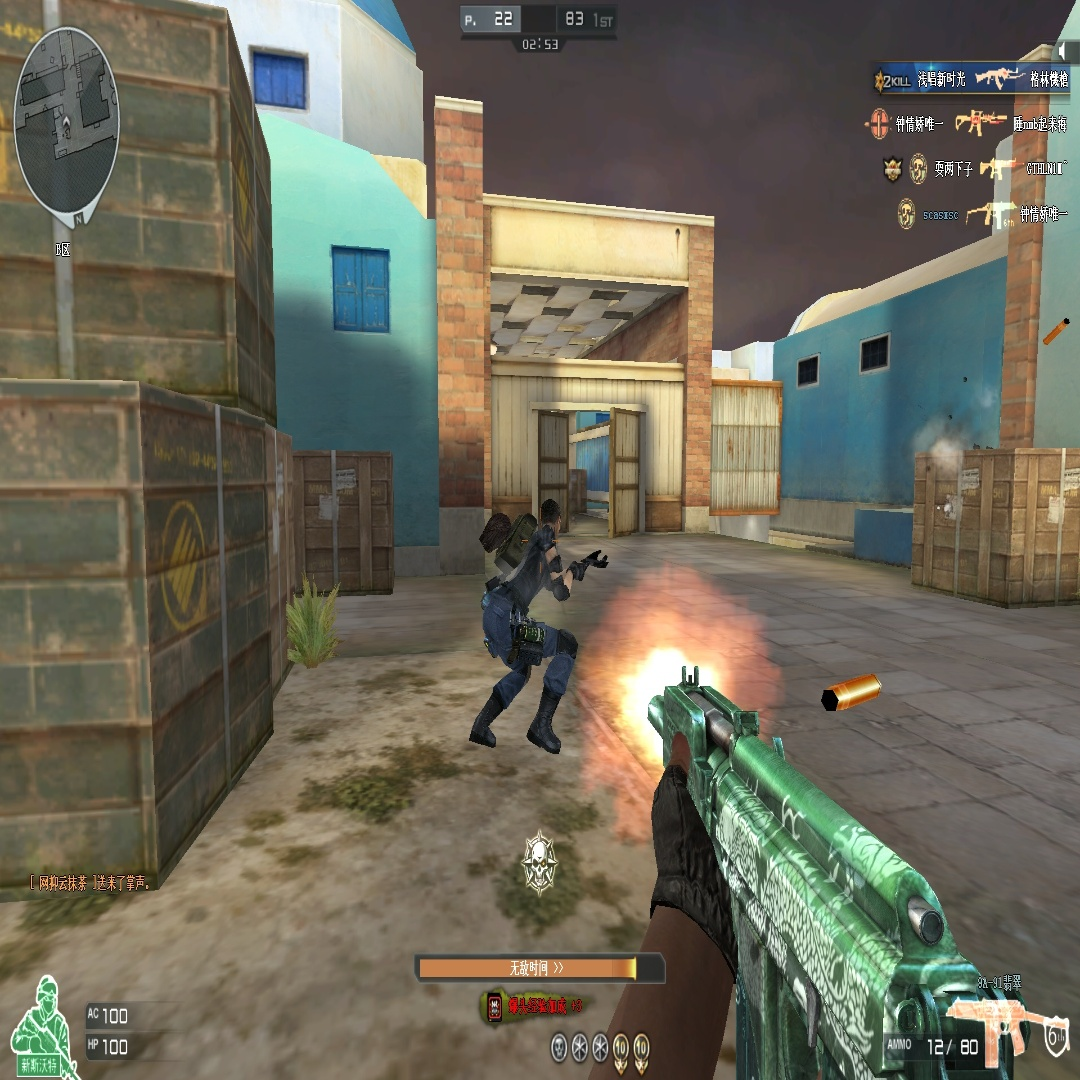p: (466, 496, 609, 755)
